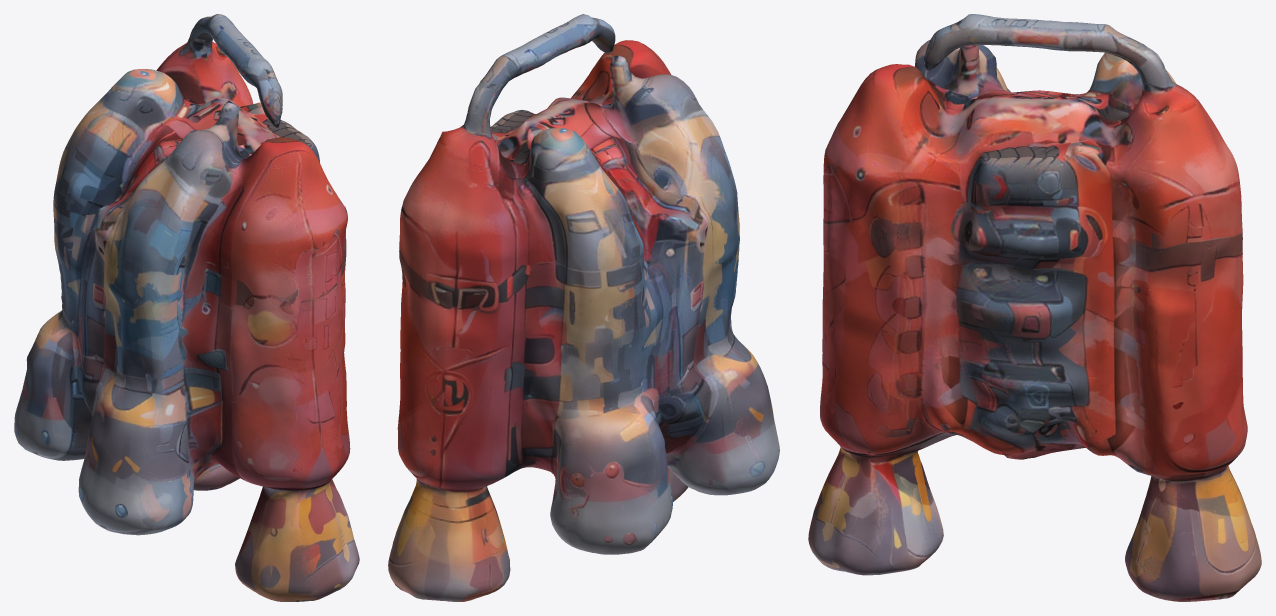
The model's file is jetpack.glb.
3 views of the same model, side by side, from view 1: azimuth 30°, elevation 25°; view 2: azimuth 150°, elevation 25°; view 3: azimuth 270°, elevation 25° (orthographic). The views are drawn at different scales.
Parts seen in each view (by area): view 1: Object_4; view 2: Object_4; view 3: Object_4.
Boxes of the visible parts, bbox=[...] form: Object_4: bbox=[14, 14, 359, 601]; Object_4: bbox=[388, 14, 779, 601]; Object_4: bbox=[808, 14, 1261, 601].
Bounding box in the file's own units: 0.6609 × 1.2 × 0.8931.
Materials: 1 (1 with a texture image).
